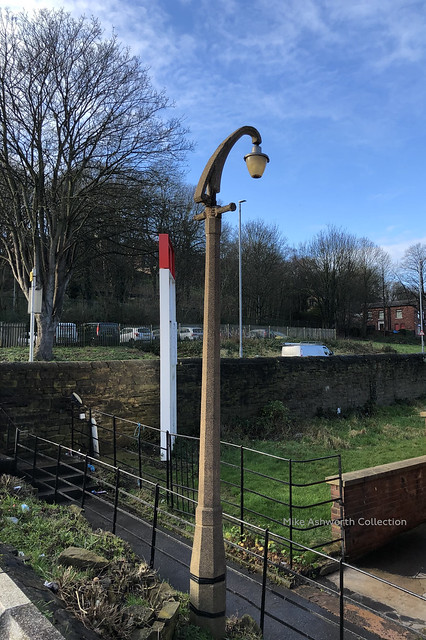light_pole: (181, 156, 240, 631)
